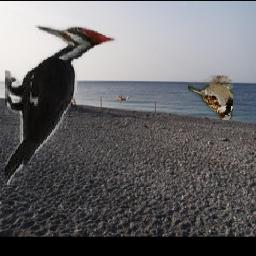Sparrow: (189, 76, 234, 120)
Woodpecker: (5, 25, 117, 185)
